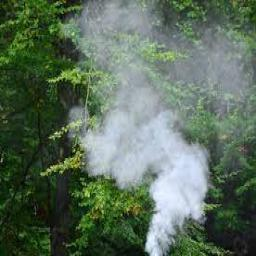Low smoke: (63, 5, 253, 254)
